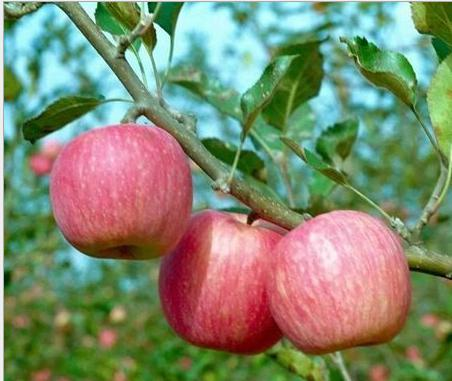apple: (260, 205, 410, 355), (262, 207, 412, 357), (49, 124, 194, 261), (159, 205, 285, 356)
